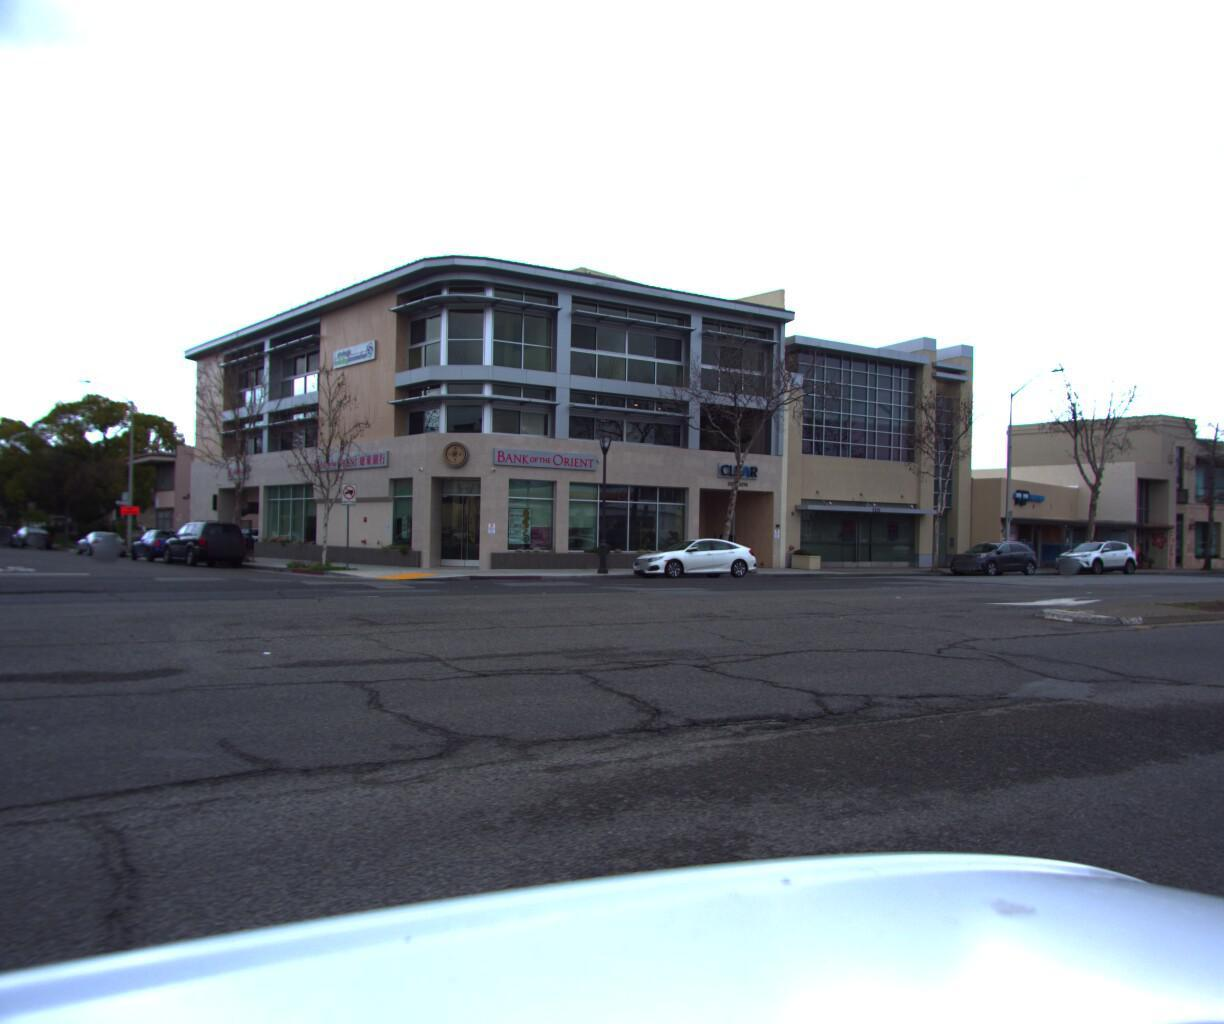car: (617, 529, 766, 578), (156, 516, 257, 565), (1040, 532, 1140, 573), (936, 535, 1041, 574), (126, 523, 199, 560), (76, 524, 133, 553), (14, 524, 56, 546)
